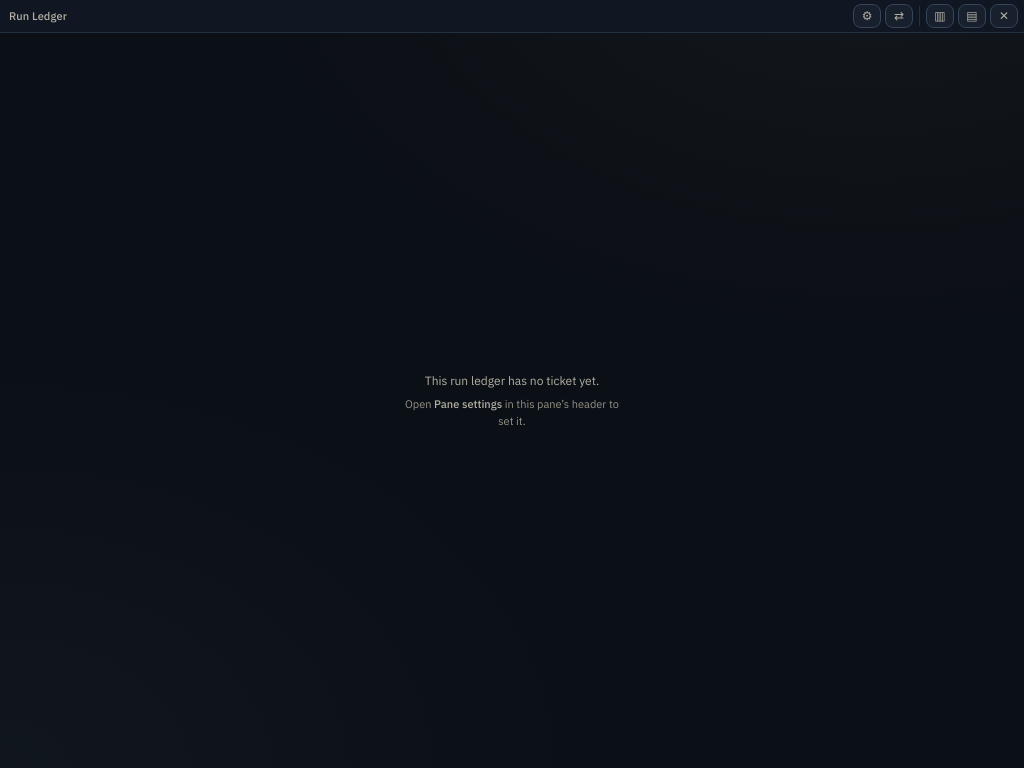
Test: AC1/AC3 — the editor is reached from the pane and generated from the schema › renders one input per declared field, typed by that field's kind
Check: the element with test id "view-host" is shown, box [0,0,1023,428]
Click the button "⚙".
click(867, 16)  # box [853,4,881,28]
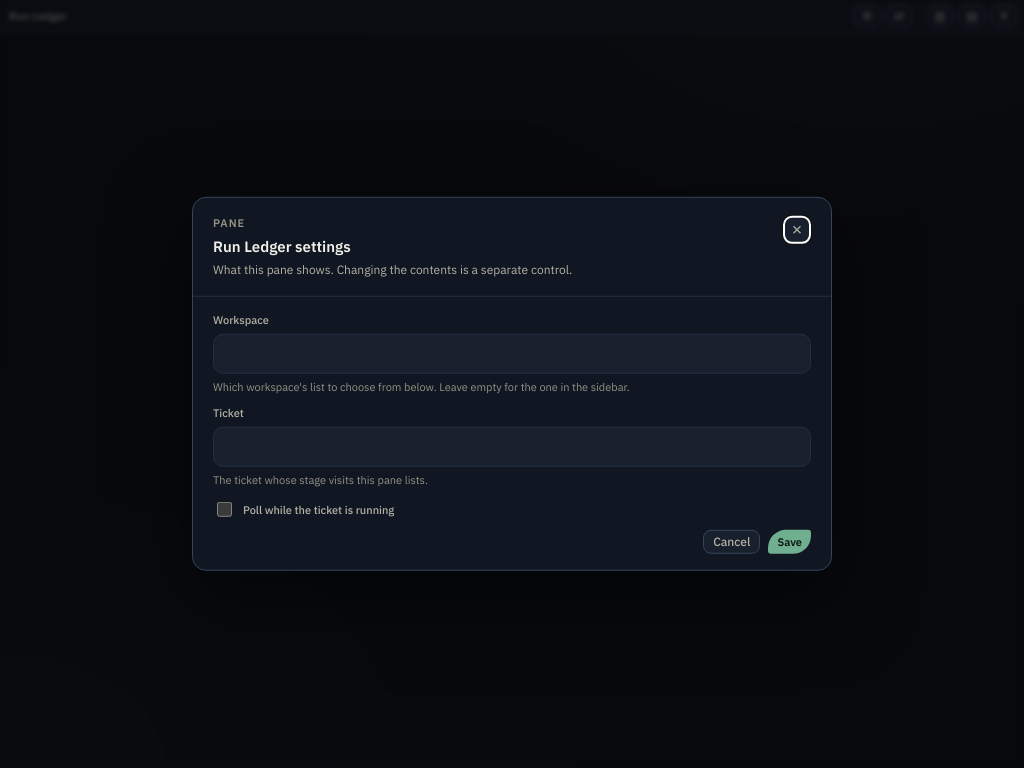
Check: the text "The ticket whose stage visits this pane lists." is shown, box [213,473,428,487]
